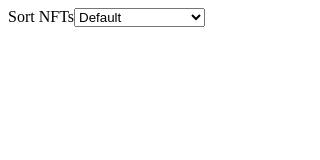
reports a filtered request failure without showing the previous results
Select "Likes, High to Low" in the dropdown labelled "Sort NFTs". click: (140, 18)
box: [74,8,205,27]
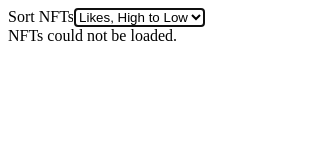
Expected: the message reads "NFTs could not be loaded.", [8,27,177,44]
